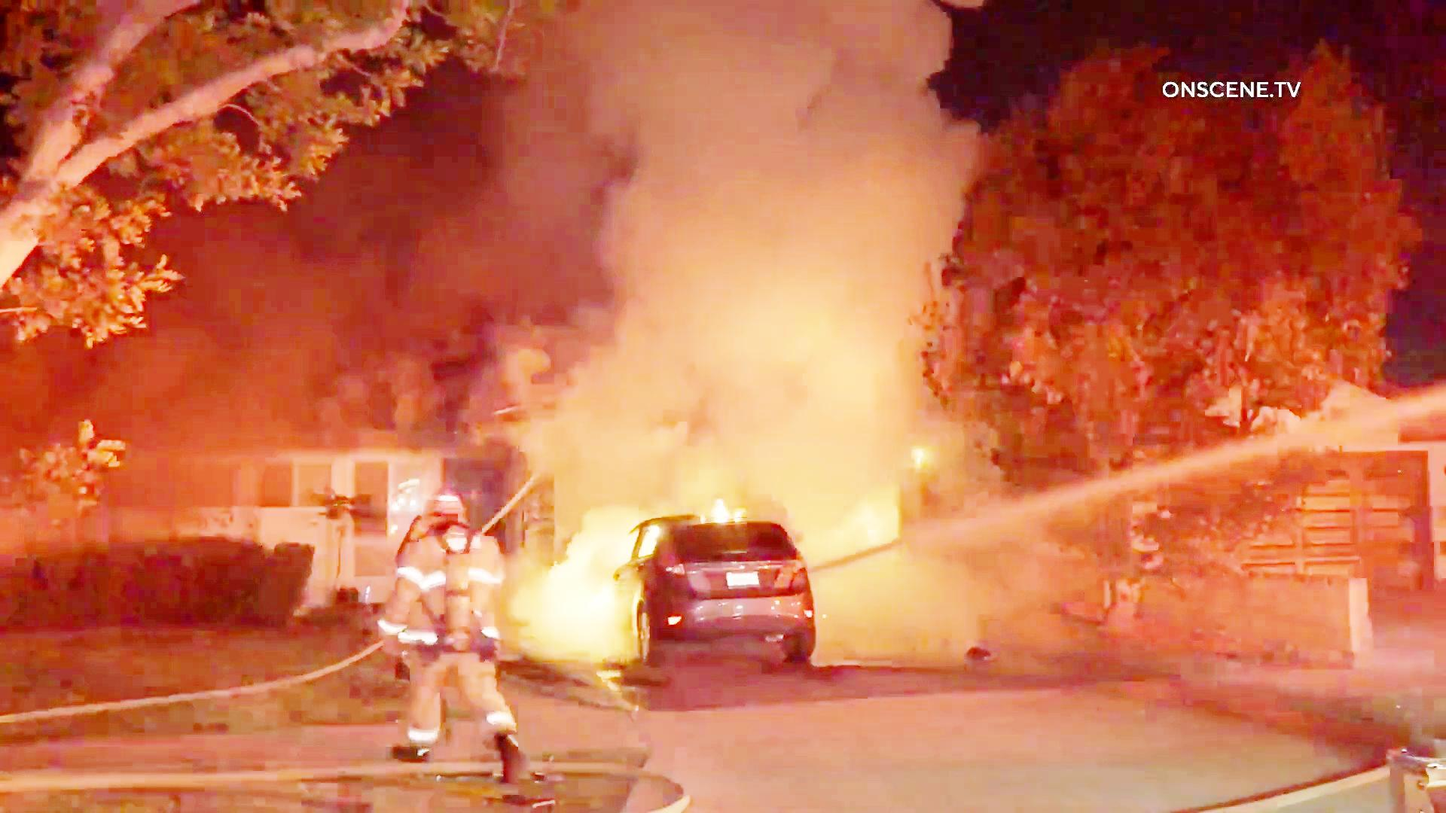fire: (543, 561, 636, 657), (706, 472, 788, 530)
smoke: (418, 140, 956, 446), (599, 8, 959, 150), (860, 544, 1028, 646)
